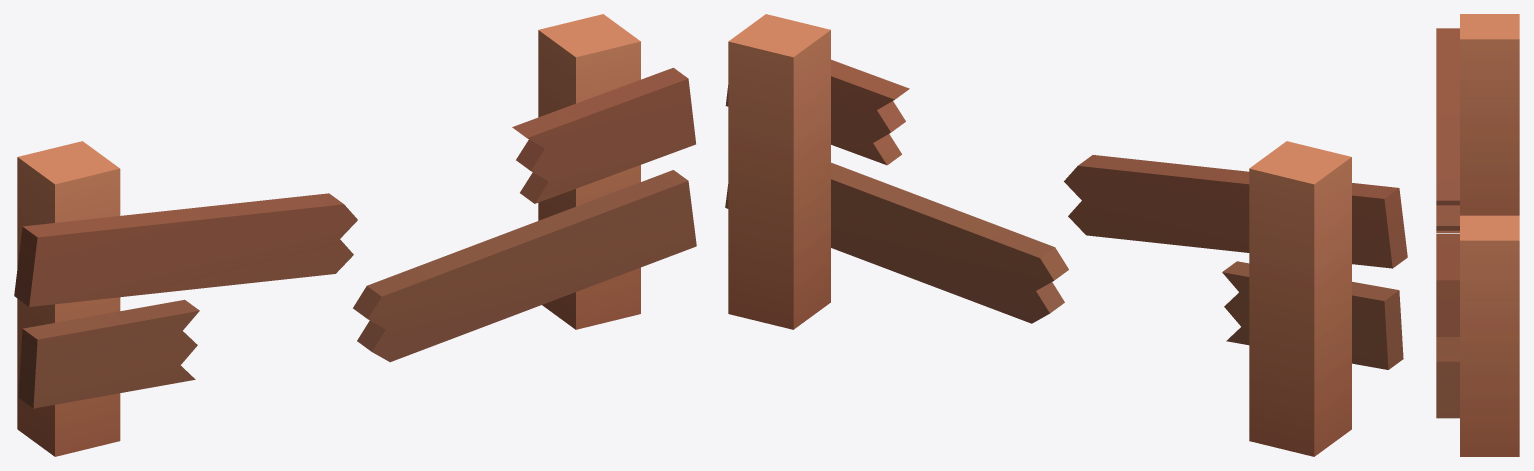
The model's file is kenney-platformer-fence-broken.glb.
3 views of the same model, side by side, from view 1: azimuth 30°, elevation 25°; view 2: azimuth 150°, elevation 25°; view 3: azimuth 270°, elevation 25° (orthographic). The views are drawn at different scales.
Parts seen in each view (by area): view 1: fence-broken; view 2: fence-broken; view 3: fence-broken.
Part boxes in pixels (<box>): fence-broken: <box>14,14,696,456</box>; fence-broken: <box>725,14,1407,456</box>; fence-broken: <box>1436,14,1519,456</box>.
Bounding box in the file's own units: 1.03 × 0.4 × 0.14.
Materials: 1 (1 with a texture image).
